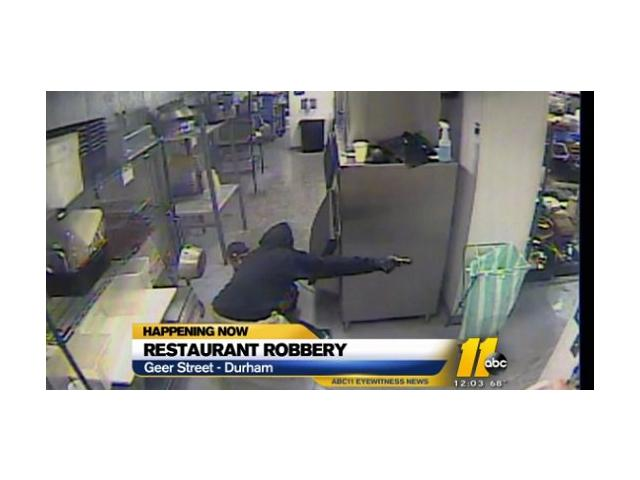pistol: (378, 253, 414, 277)
